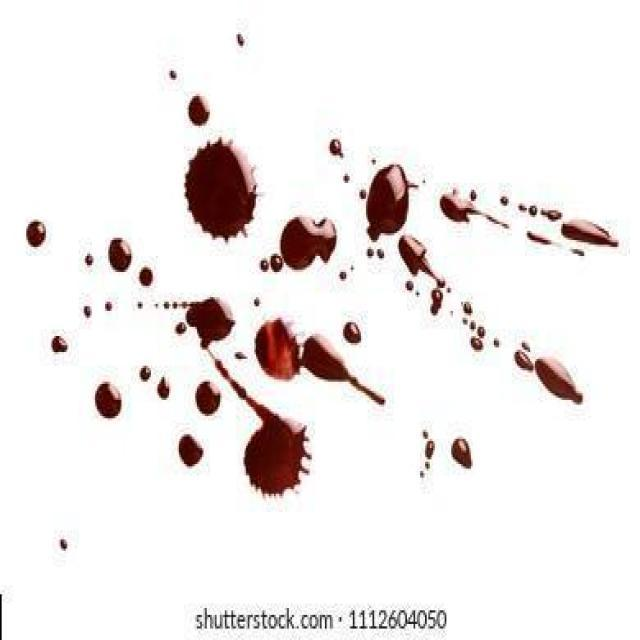flood: (174, 278, 400, 400), (438, 174, 623, 264), (178, 128, 262, 247), (240, 416, 330, 512), (348, 148, 416, 238), (278, 206, 339, 271), (524, 348, 586, 409)
